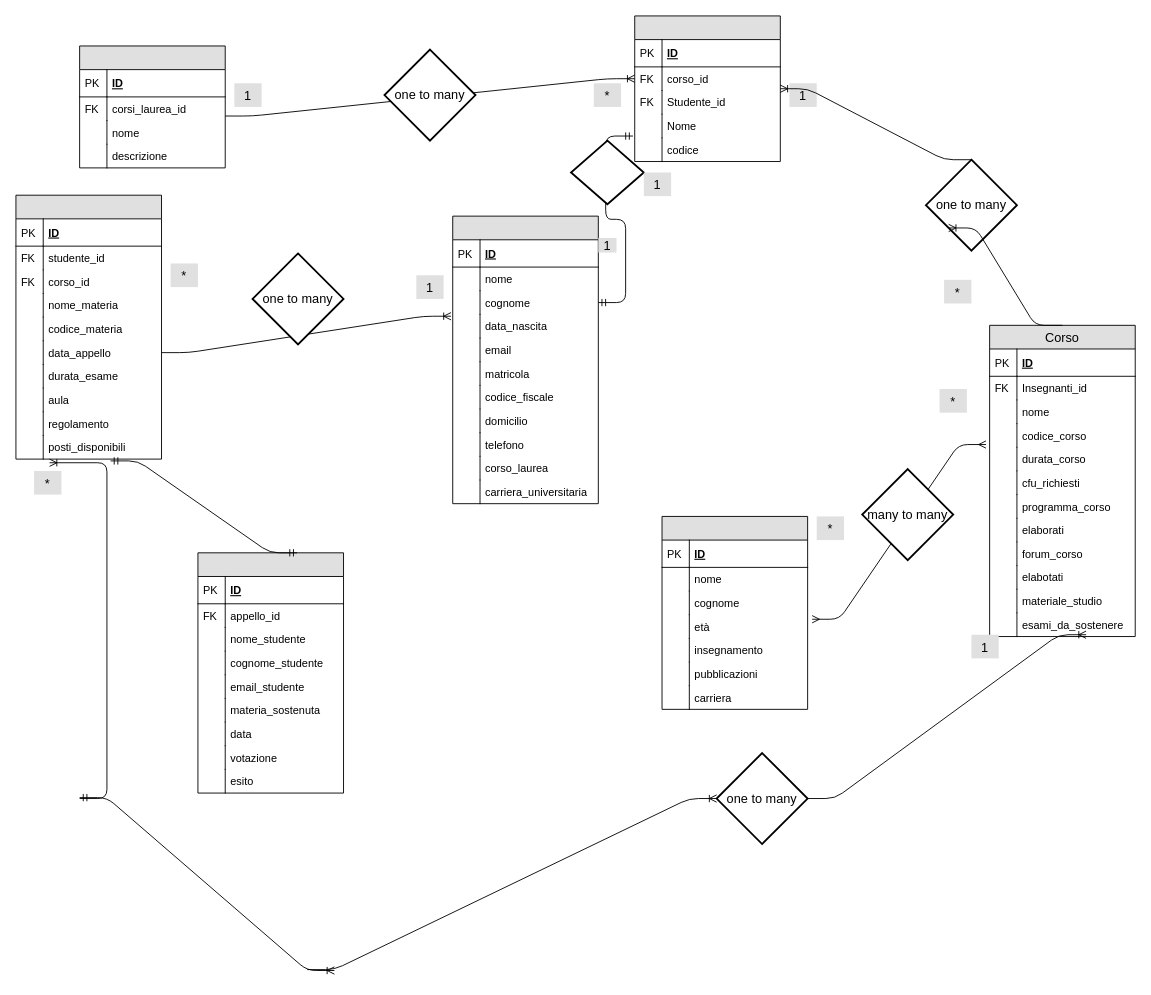
This 1151x995 diagram has some shape labels left out. The shapes that lost their labels are listed below. From the top down, each one's box as (x1, y1, x2, y2) in pixels, then its label:
(79, 45, 225, 168): Dipartimenti
(634, 15, 780, 162): Corsi_laurea
(570, 139, 644, 205): oen to one
(15, 194, 162, 459): Appelli
(452, 215, 598, 504): Studente
(661, 516, 808, 709): Insegnanti
(197, 552, 344, 793): Risultati
